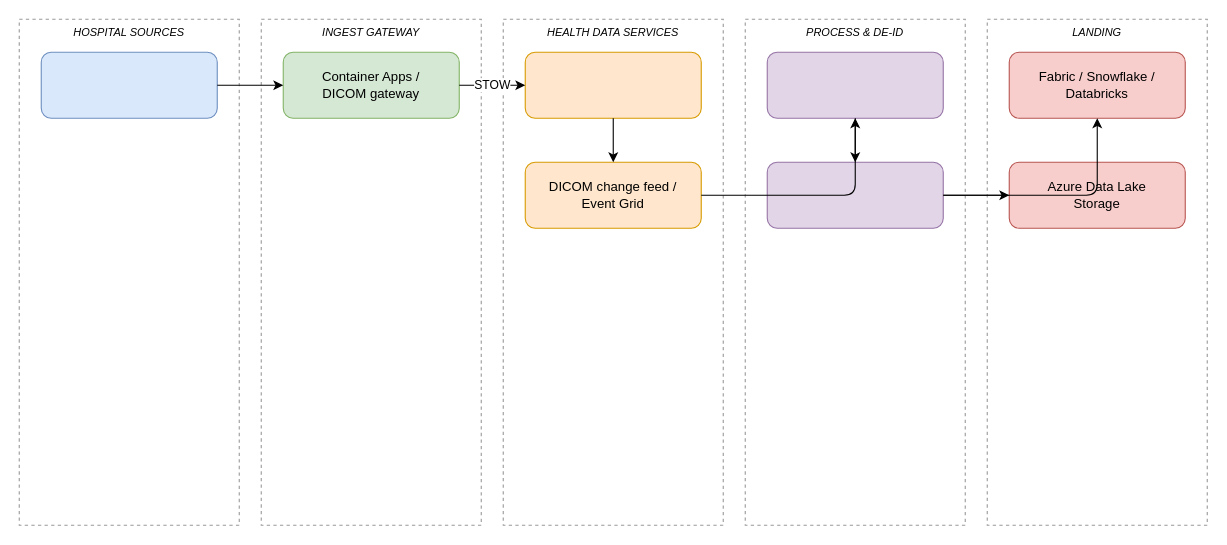
This 1227x545 diagram has some shape labels left out. The centre of each missing label's shape, as x and y in pixels:
"AHDS DICOM service" belongs at (x=612, y=84).
"AI Services (de-ID)" belongs at (x=854, y=194).
"Azure Functions / Container job" belongs at (x=854, y=84).
"Modality / PACS (DICOM, HL7v2)" belongs at (x=128, y=84).
